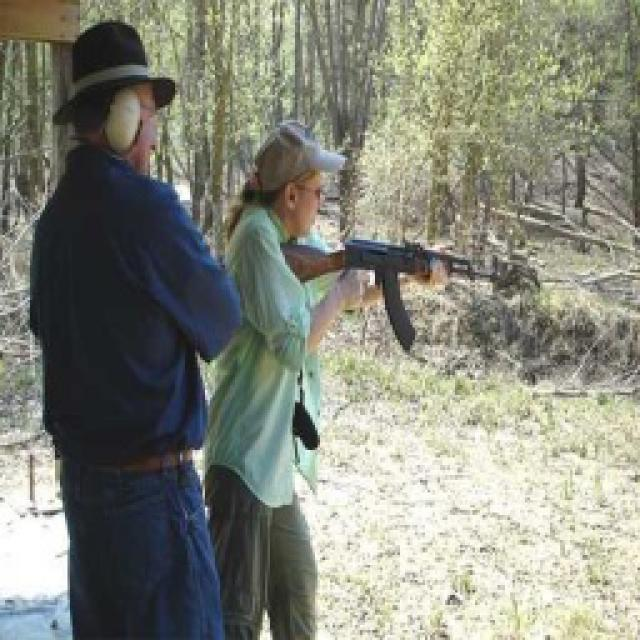long weapon: (295, 227, 498, 322)
